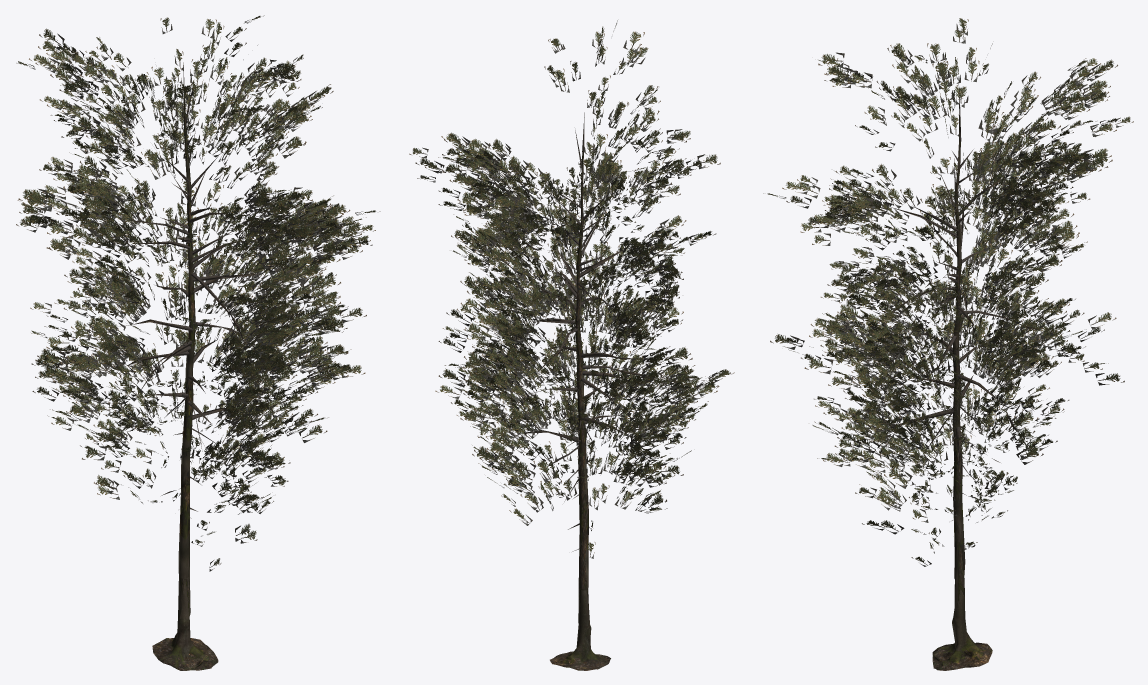
File: pine.glb
3 views of the same model, side by side, from view 1: azimuth 30°, elevation 25°; view 2: azimuth 150°, elevation 25°; view 3: azimuth 270°, elevation 25° (orthographic). The views are drawn at different scales.
Visible parts, largest first — view 1: ph-pine-b-low; view 2: ph-pine-b-low; view 3: ph-pine-b-low.
Part boxes in pixels (x1,y1,x2,y2): ph-pine-b-low: [16, 15, 380, 670]; ph-pine-b-low: [409, 20, 734, 670]; ph-pine-b-low: [763, 18, 1133, 670].
Size of the model in its own units: 6.91 by 14.5 by 7.69.
Materials: 4 (4 with a texture image).
